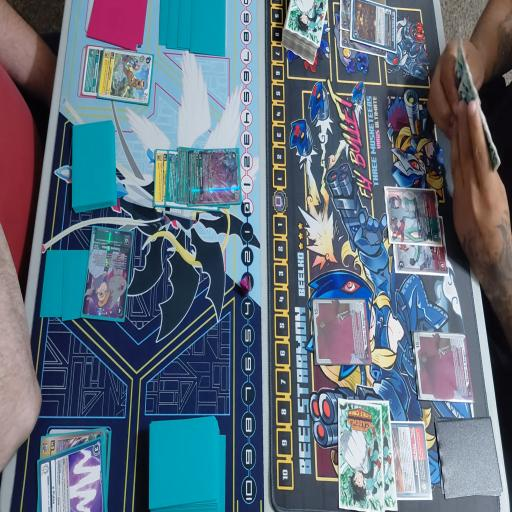card: (35, 432, 111, 512), (83, 227, 133, 323), (310, 298, 372, 365), (415, 331, 472, 401), (187, 142, 241, 210), (96, 47, 153, 107), (386, 183, 440, 245), (389, 419, 432, 496), (394, 216, 446, 274), (40, 423, 106, 463), (351, 0, 399, 54), (335, 32, 386, 58), (83, 42, 103, 100), (164, 149, 178, 212), (152, 151, 168, 203), (175, 149, 187, 211), (340, 0, 355, 32)
